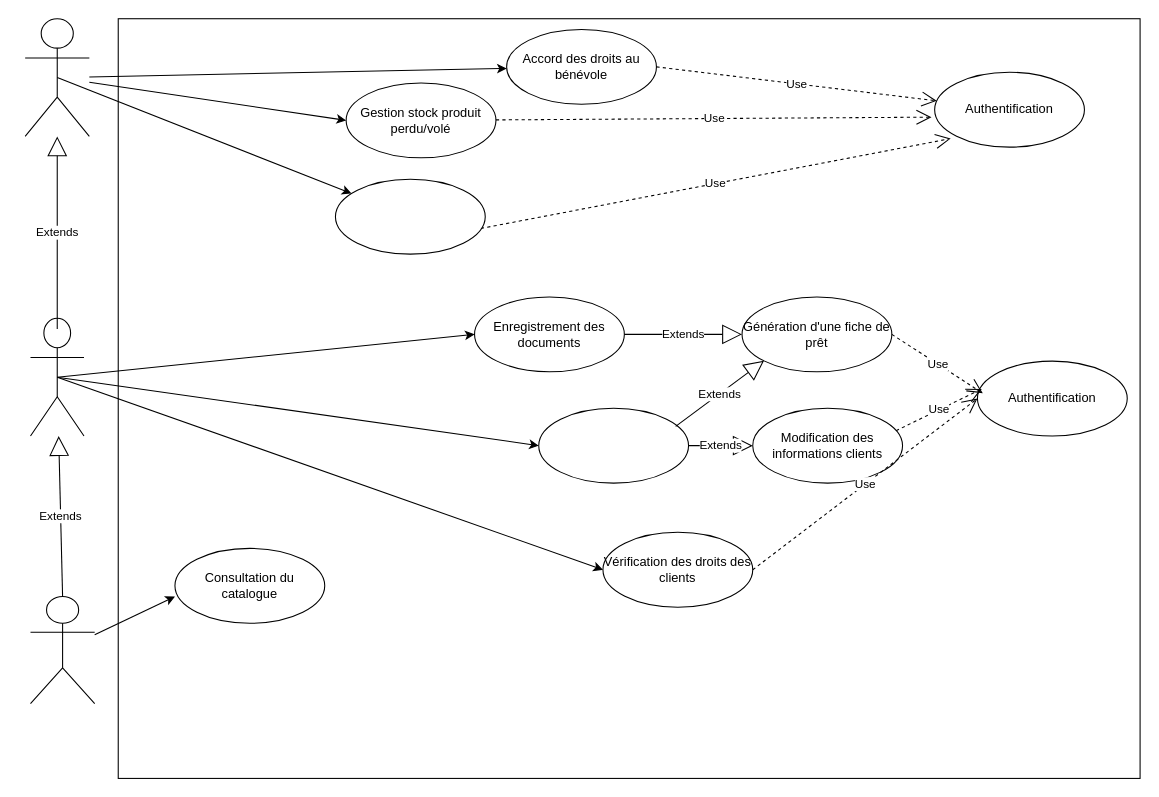
Image size: 1159x797. Some labels were removed from this diagram. Here are the shapes that lost their labels. From the top down, the centre of each, then its label:
At pixel 56 77: "Bibliothécaire".
At pixel 409 216: "Lettre de relance des emprunts".
At pixel 56 376: "Bénévole".
At pixel 613 445: "Enregistrement des clients".
At pixel 62 649: "Client".
